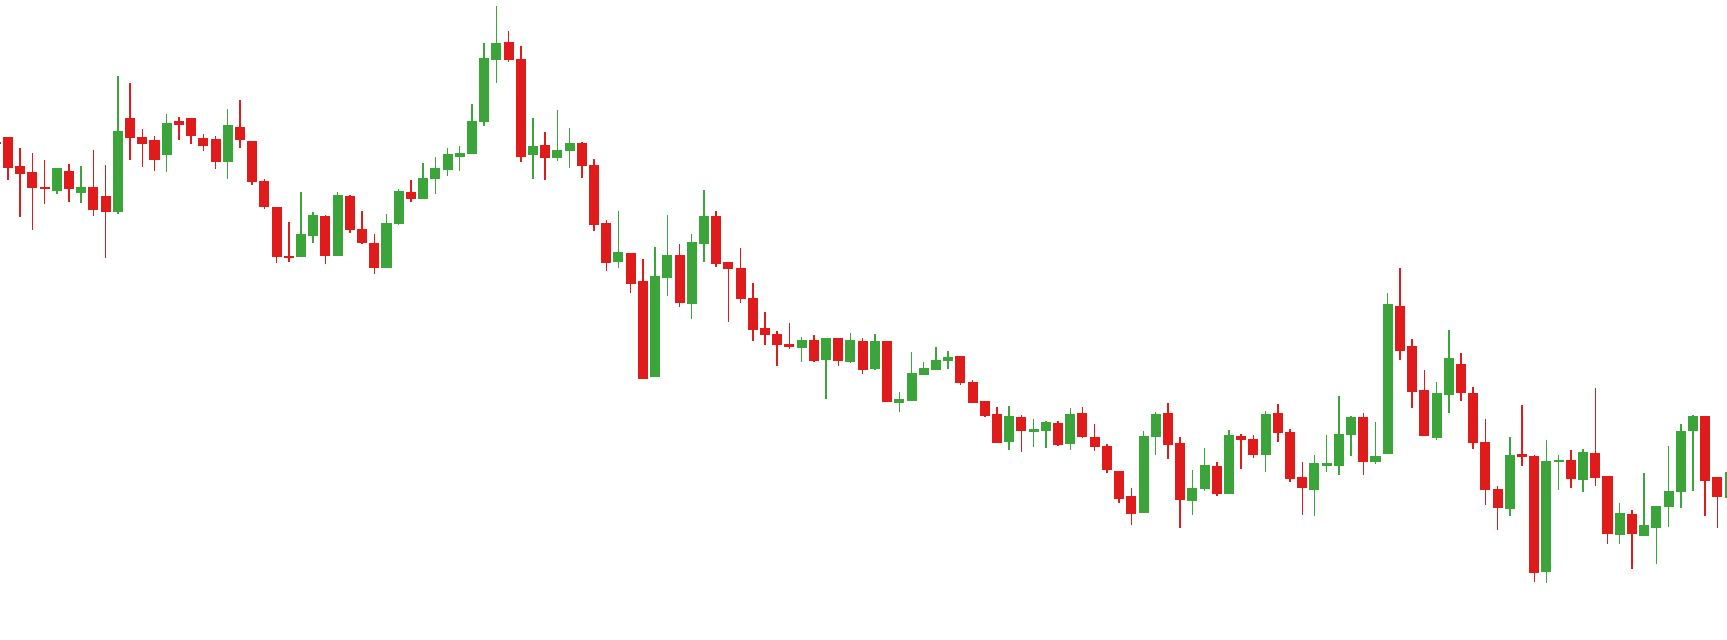buy: (1209, 443, 1321, 523)
sell: (613, 188, 723, 318)
